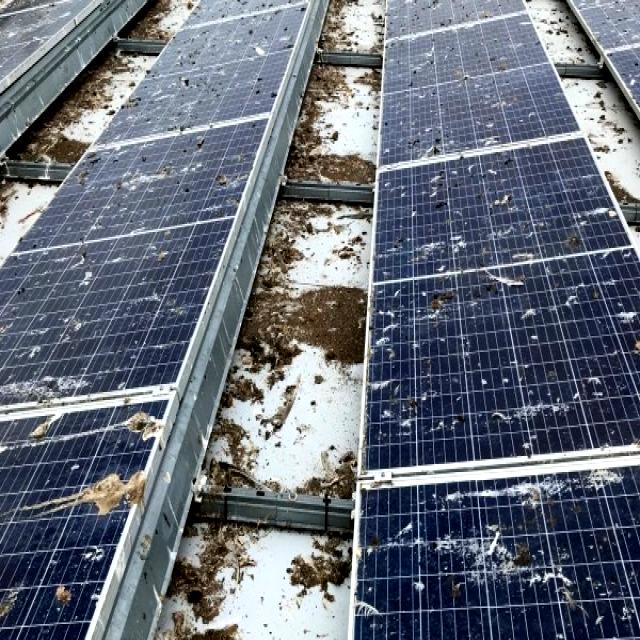bird: (44, 462, 154, 520), (491, 383, 575, 458), (108, 153, 184, 207), (0, 359, 95, 402), (376, 394, 461, 440), (90, 409, 172, 449), (471, 524, 536, 572), (601, 286, 640, 366), (494, 152, 530, 228), (422, 272, 474, 324), (401, 119, 454, 166), (74, 231, 109, 300), (0, 563, 31, 640), (520, 292, 560, 350), (414, 180, 458, 222), (53, 569, 83, 621), (6, 266, 37, 308), (564, 220, 586, 265), (150, 238, 174, 274), (213, 172, 236, 206), (405, 570, 423, 598)
